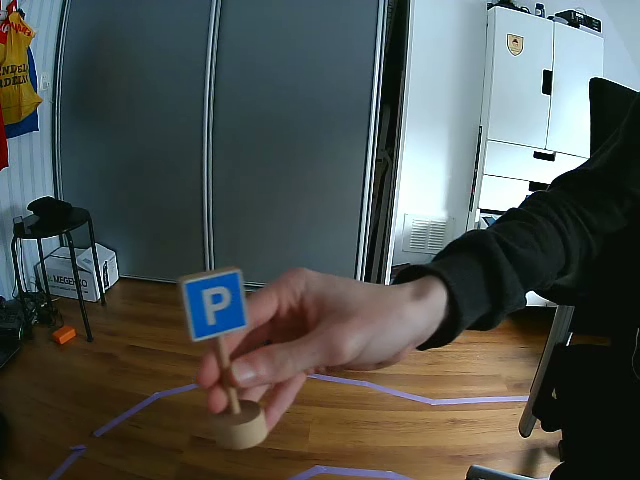parkeerbord: (182, 266, 249, 343)
